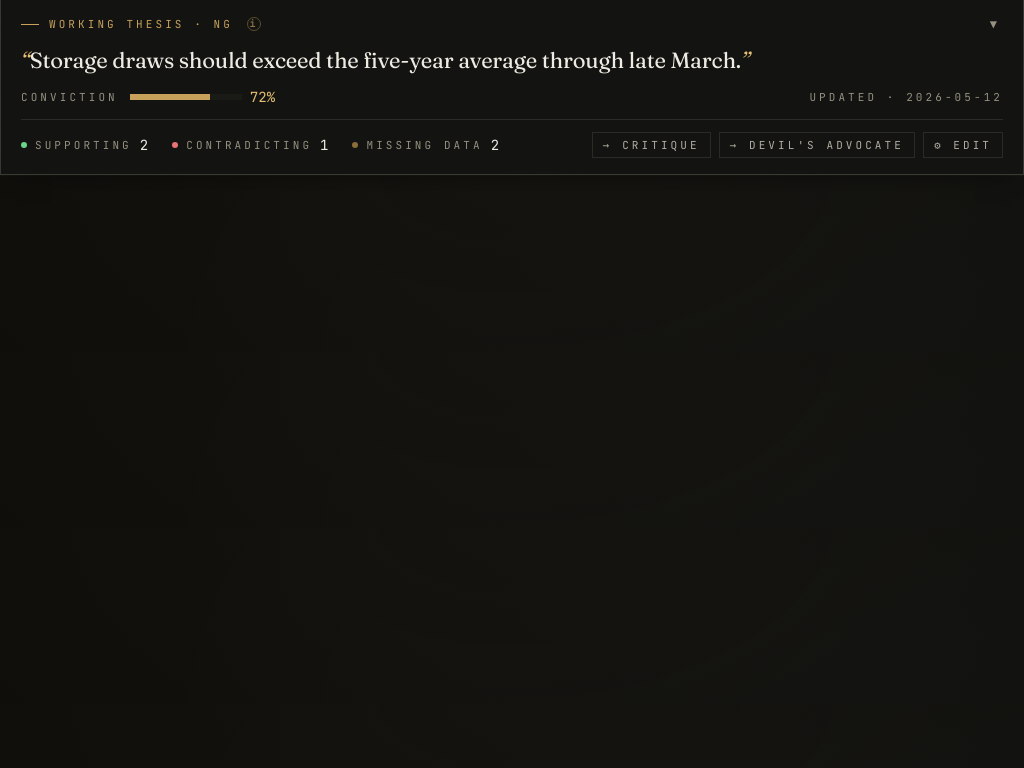
Test case: WorkingThesisCard › opens the critique drawer when the Critique button is clicked
The width and height of the screenshot is (1024, 768).
Click the button "→ Critique".
click(651, 145)  # box [592,132,711,158]
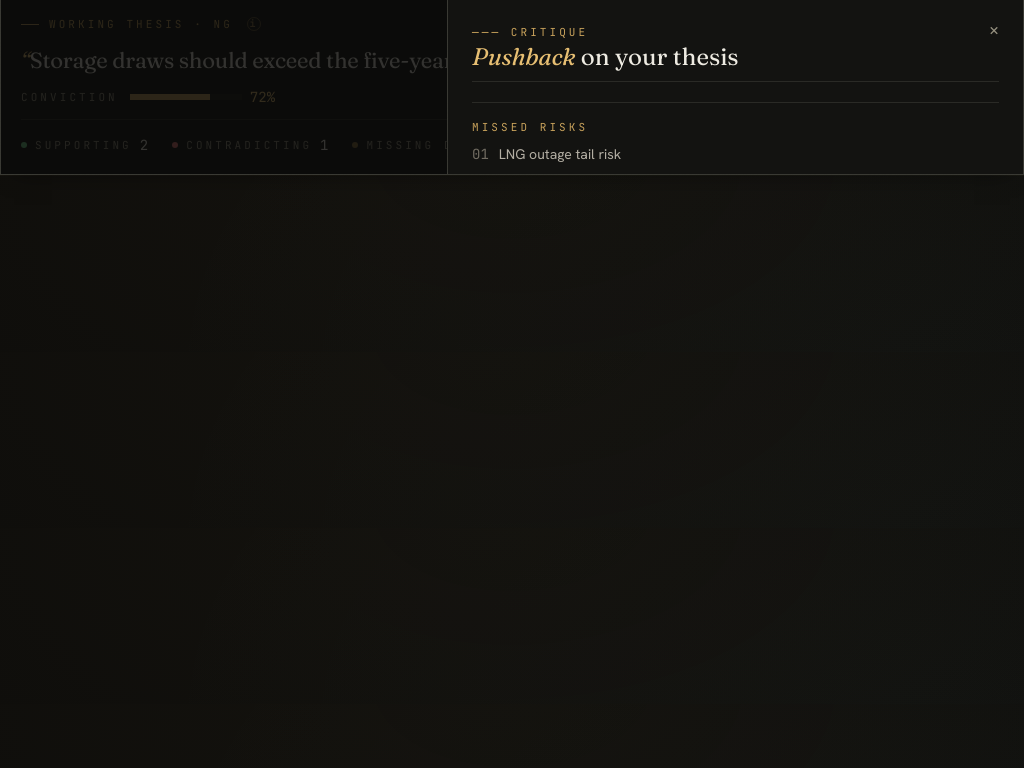
Now the dialog named "Thesis critique" is shown, box [1,0,1023,174]
